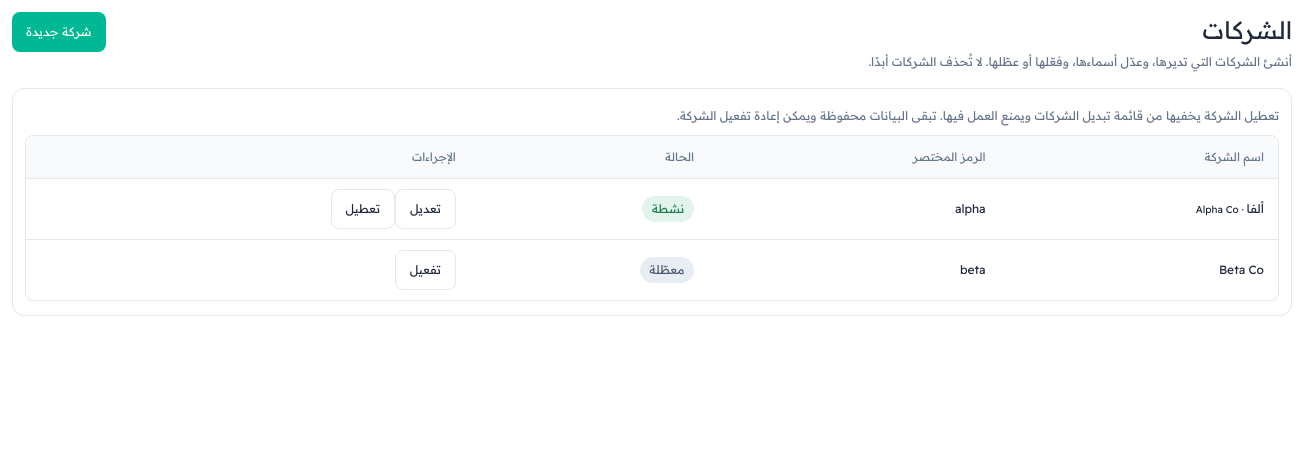
Test case: CompaniesManagement › maps COMPANY_LAST_ACTIVE_CONFLICT (ar) to its translated message, never the raw backend text
The width and height of the screenshot is (1304, 453).
Click the button "تعطيل" at (363, 209), box top-left (330, 189), bottom-right (395, 229)
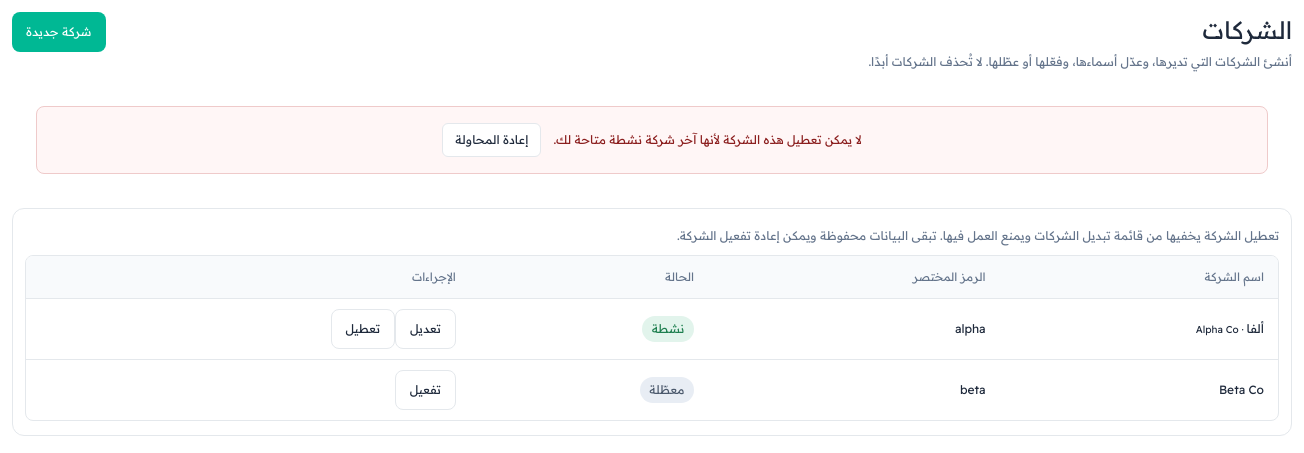
Check: the text "لا يمكن تعطيل هذه الشركة لأنها آخر شركة نشطة متاحة لك." is shown, box top-left (553, 130), bottom-right (862, 149)
